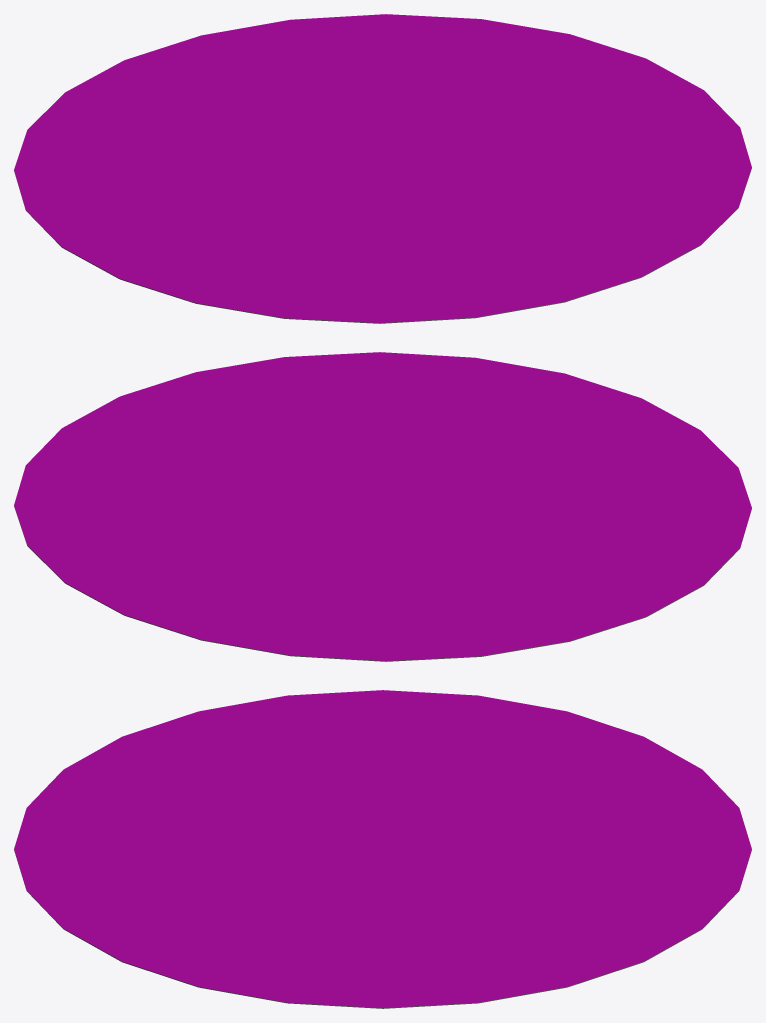
The model's file is Main-Tent-Ground-New.fbx.
The picture shows the model from 3 angles, top to bottom: view 1: azimuth 30°, elevation 25°; view 2: azimuth 150°, elevation 25°; view 3: azimuth 270°, elevation 25°; orthographic projection.
Visible parts, largest first — view 1: pDisc8; view 2: pDisc8; view 3: pDisc8.
Part boxes in pixels (x1=…): pDisc8: x1=14, y1=14, x2=751, y2=323; pDisc8: x1=14, y1=352, x2=751, y2=661; pDisc8: x1=14, y1=690, x2=751, y2=1008.
Size of the model in its own units: 69.48 by 0.0834 by 68.16.
